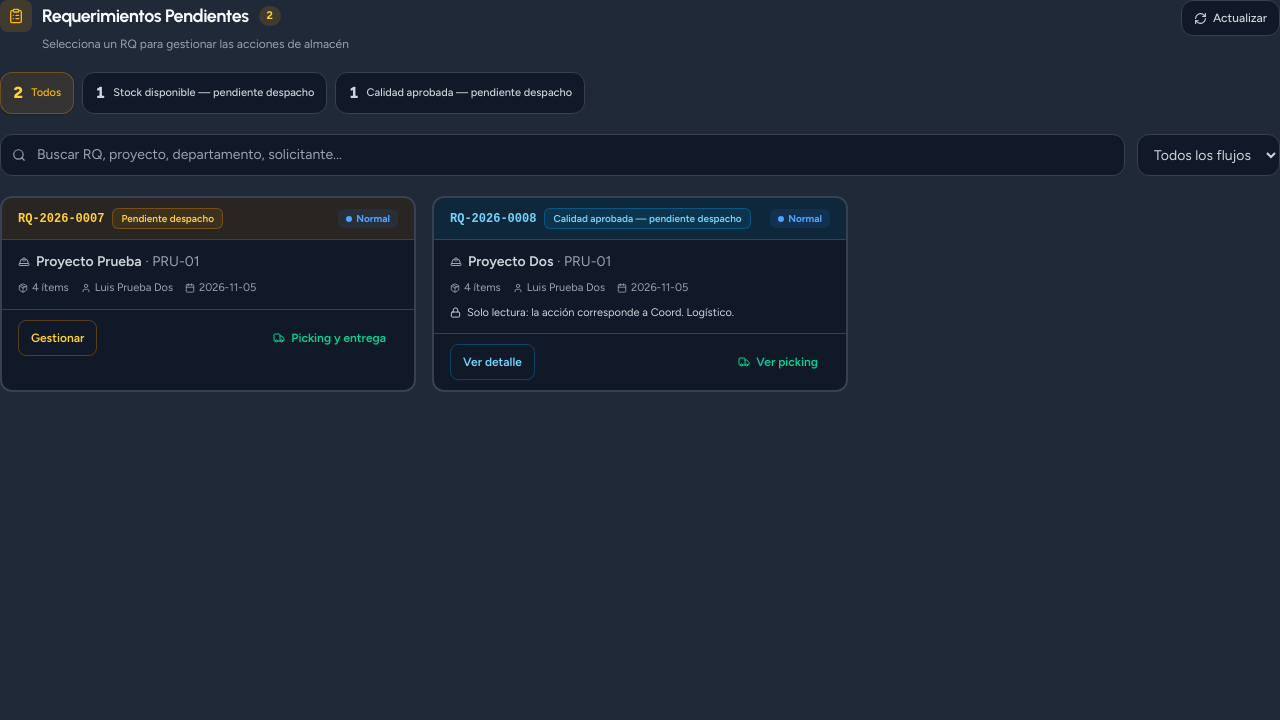
Scenario: PendientesPage — panel de acciones › lee available_actions y consulta con el rol del usuario
Click the button with aria-label "Gestionar RQ-2026-0007".
click(58, 338)  # box x1=18 y1=320 x2=97 y2=356
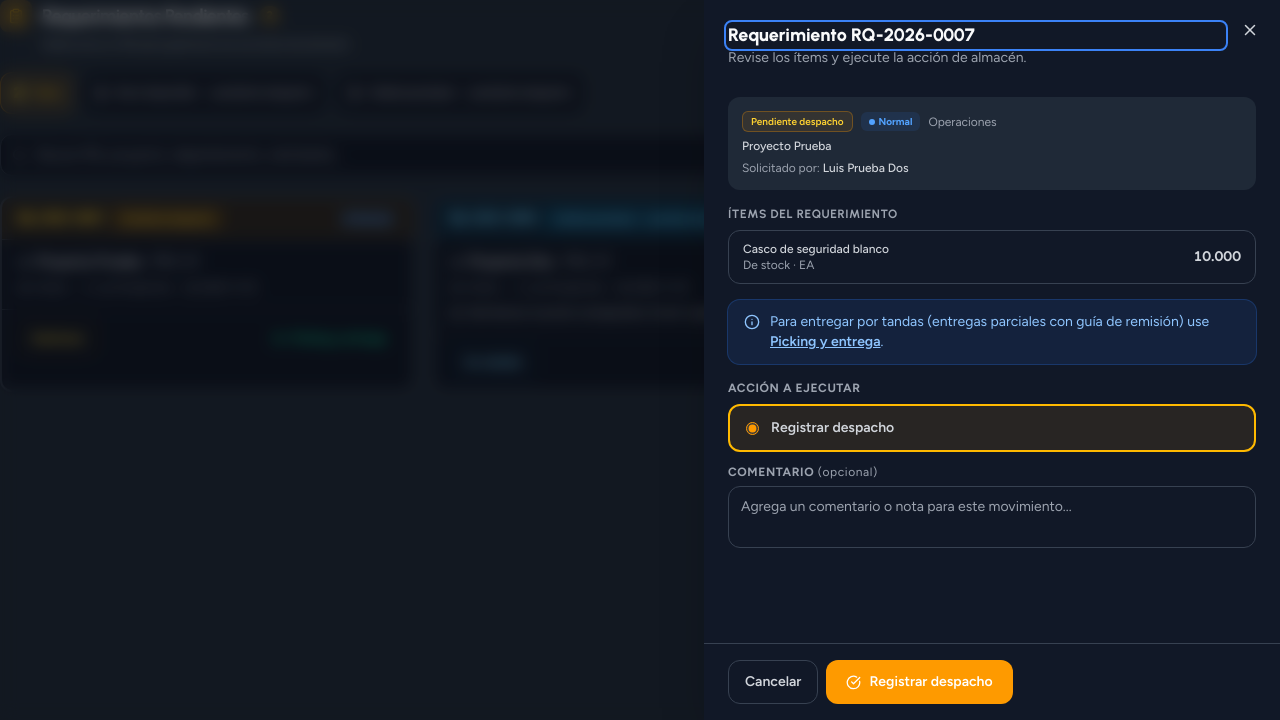
Result: the radio button labelled "Registrar despacho" is checked at x1=746 y1=422 x2=759 y2=435
Result: the text "Casco de seguridad blanco" is shown at x1=743 y1=241 x2=889 y2=257
